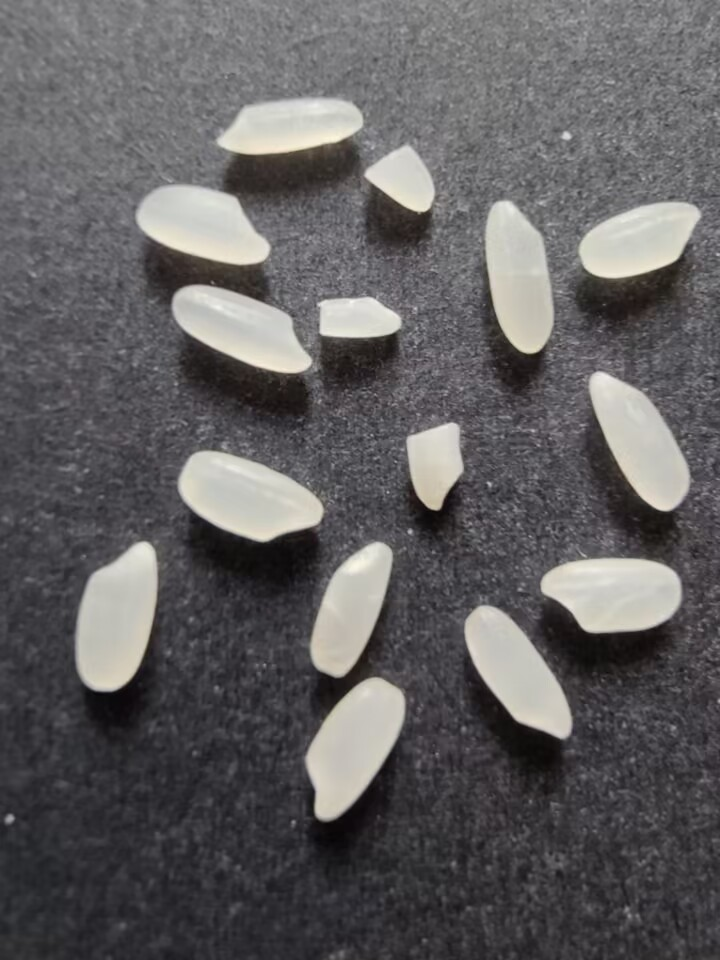broken: (400, 420, 465, 517), (361, 140, 438, 219), (311, 294, 408, 345)
rice: (300, 670, 408, 827), (460, 601, 579, 742), (584, 364, 696, 513), (176, 450, 327, 548), (72, 534, 162, 697), (166, 282, 317, 378), (305, 537, 395, 680), (130, 181, 277, 266), (536, 556, 684, 636), (483, 195, 554, 357), (575, 200, 705, 279), (212, 96, 367, 158)
